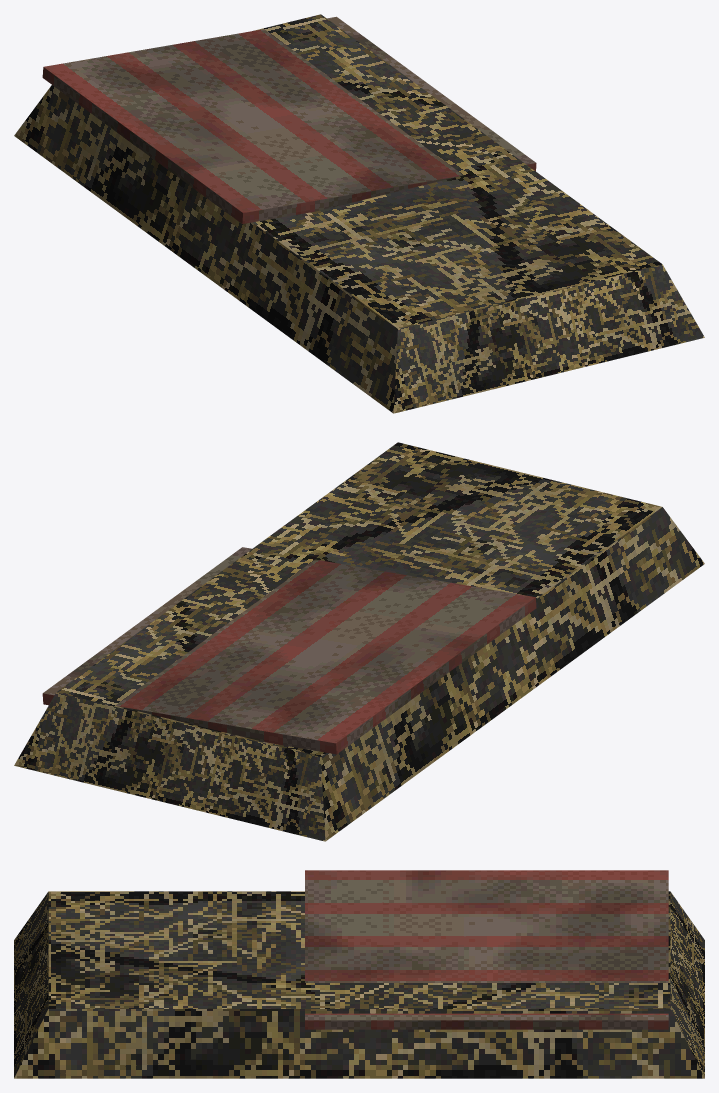
File: bed_straw.glb
3 views of the same model, one above another, from view 1: azimuth 30°, elevation 25°; view 2: azimuth 150°, elevation 25°; view 3: azimuth 270°, elevation 25° (orthographic). The views are drawn at different scales.
Visible parts, largest first — view 1: bed_straw; view 2: bed_straw; view 3: bed_straw.
Boxes of the visible parts, <box> form: bed_straw: <box>14,14,704,413</box>; bed_straw: <box>14,442,704,841</box>; bed_straw: <box>14,870,704,1078</box>.
Size of the model in its own units: 0.9 by 0.2246 by 1.9.
